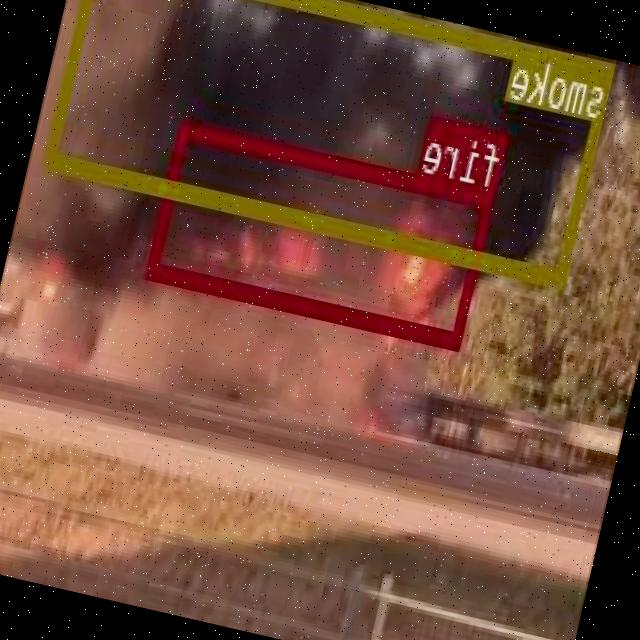fire: (148, 117, 498, 346)
smoke: (45, 0, 616, 284)
